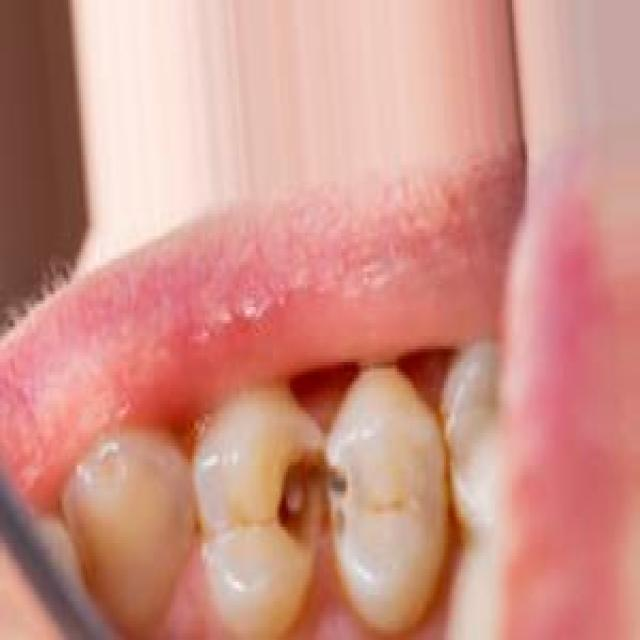caries: (249, 408, 370, 568)
